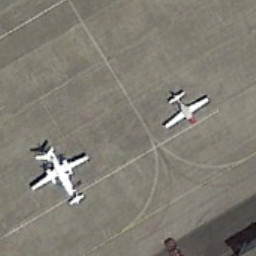Airplane: (17, 135, 99, 212), (153, 80, 214, 144)
